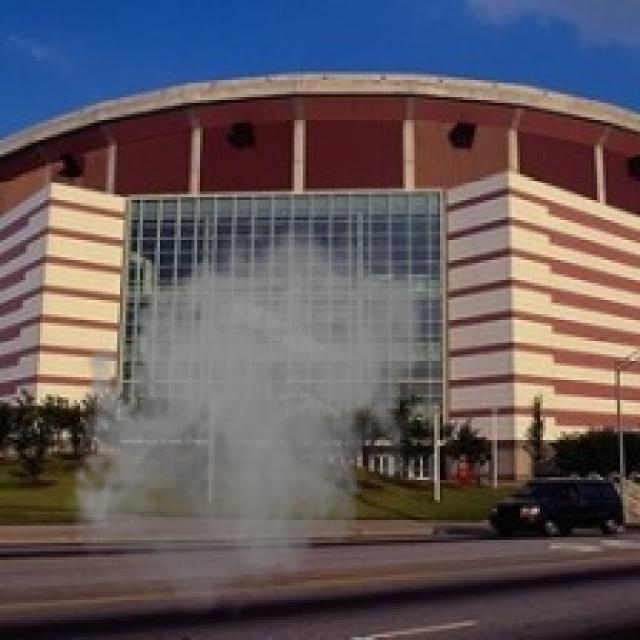Smoke: (59, 212, 432, 628)
